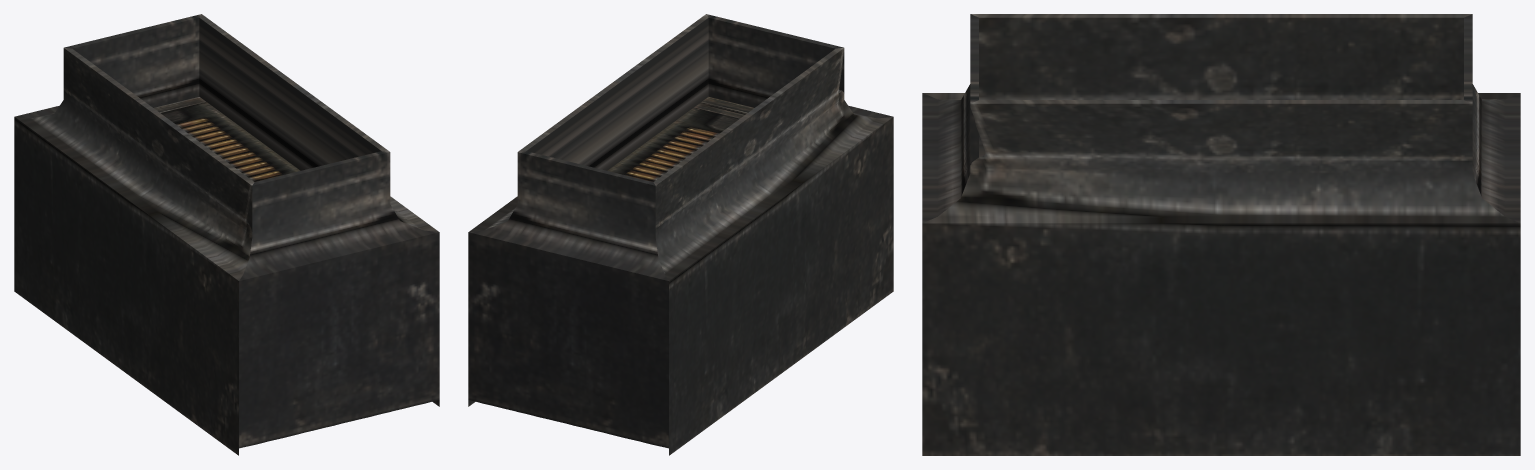
File: WeaponBase.fbx
The picture shows the model from 3 angles, left to right: view 1: azimuth 30°, elevation 25°; view 2: azimuth 150°, elevation 25°; view 3: azimuth 270°, elevation 25°; orthographic projection. The views are drawn at different scales.
Parts seen in each view (by area): view 1: WeaponBase; view 2: WeaponBase; view 3: WeaponBase.
Boxes of the visible parts, bbox=[...] form: WeaponBase: bbox=[14, 14, 439, 455]; WeaponBase: bbox=[468, 14, 893, 455]; WeaponBase: bbox=[922, 14, 1520, 455].
Size of the model in its own units: 1.03 by 1.22 by 2.
Materials: 1 (1 with a texture image).
